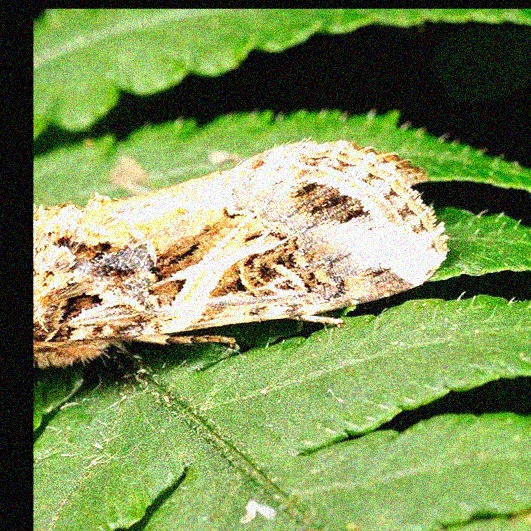Spodoptera litura: (34, 136, 450, 368)
